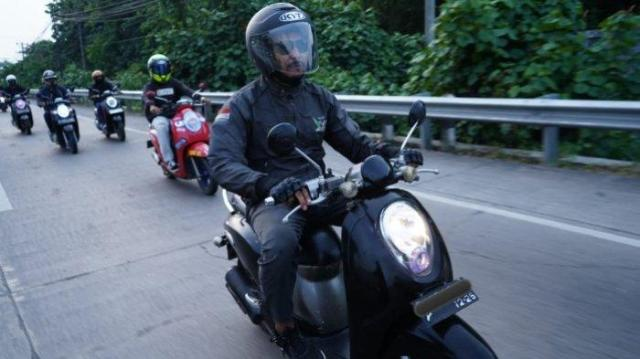helm: (247, 3, 321, 86), (146, 54, 174, 84), (42, 69, 61, 90), (93, 71, 108, 88), (7, 75, 19, 90)
motor: (213, 98, 498, 359), (145, 92, 220, 197), (40, 95, 88, 155), (92, 94, 133, 142), (9, 96, 36, 136)
